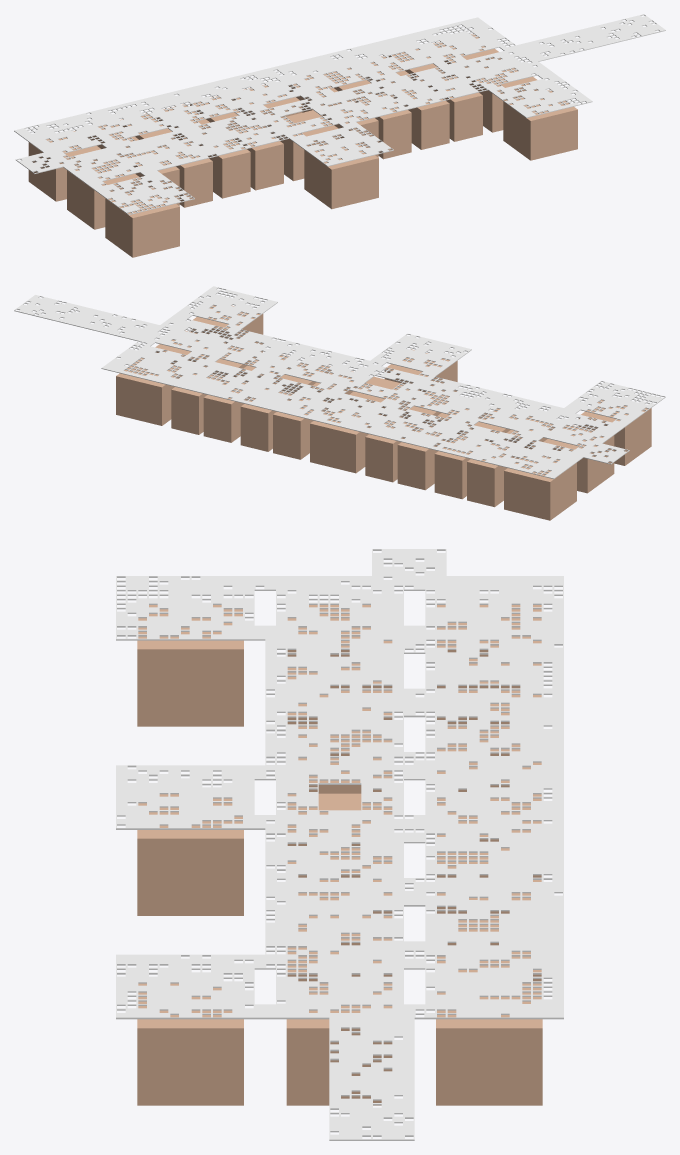
Rendered from campus.glb.
The picture shows the model from 3 angles, top to bottom: view 1: azimuth 30°, elevation 25°; view 2: azimuth 150°, elevation 25°; view 3: azimuth 270°, elevation 25°; orthographic projection. The views are drawn at different scales.
Visible parts, largest first — view 1: Cube, Cube.003; view 2: Cube, Cube.003; view 3: Cube, Cube.003.
Part boxes in pixels (<box>): Cube: <box>14,14,665,214</box>; Cube.003: <box>28,33,577,257</box>; Cube: <box>14,286,665,479</box>; Cube.003: <box>116,305,651,520</box>; Cube: <box>116,549,563,1140</box>; Cube.003: <box>137,605,542,1105</box>.
Size of the model in its own units: 13.09 by 0.9998 by 4.2.
